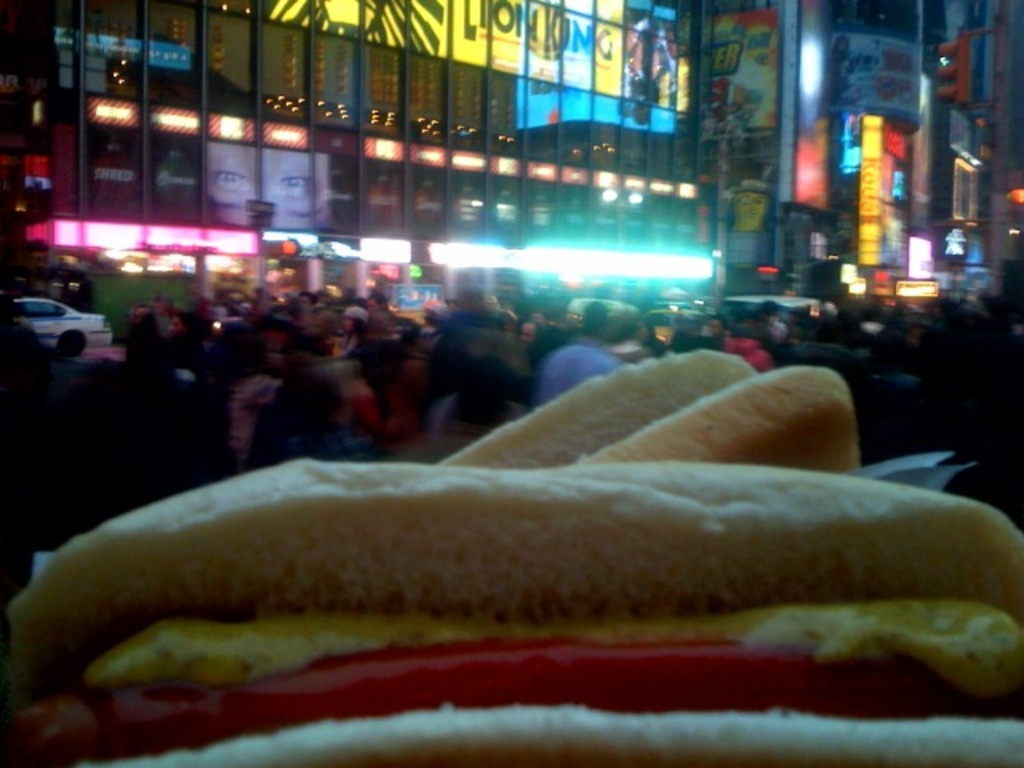Hamburger: (0, 460, 1022, 766)
